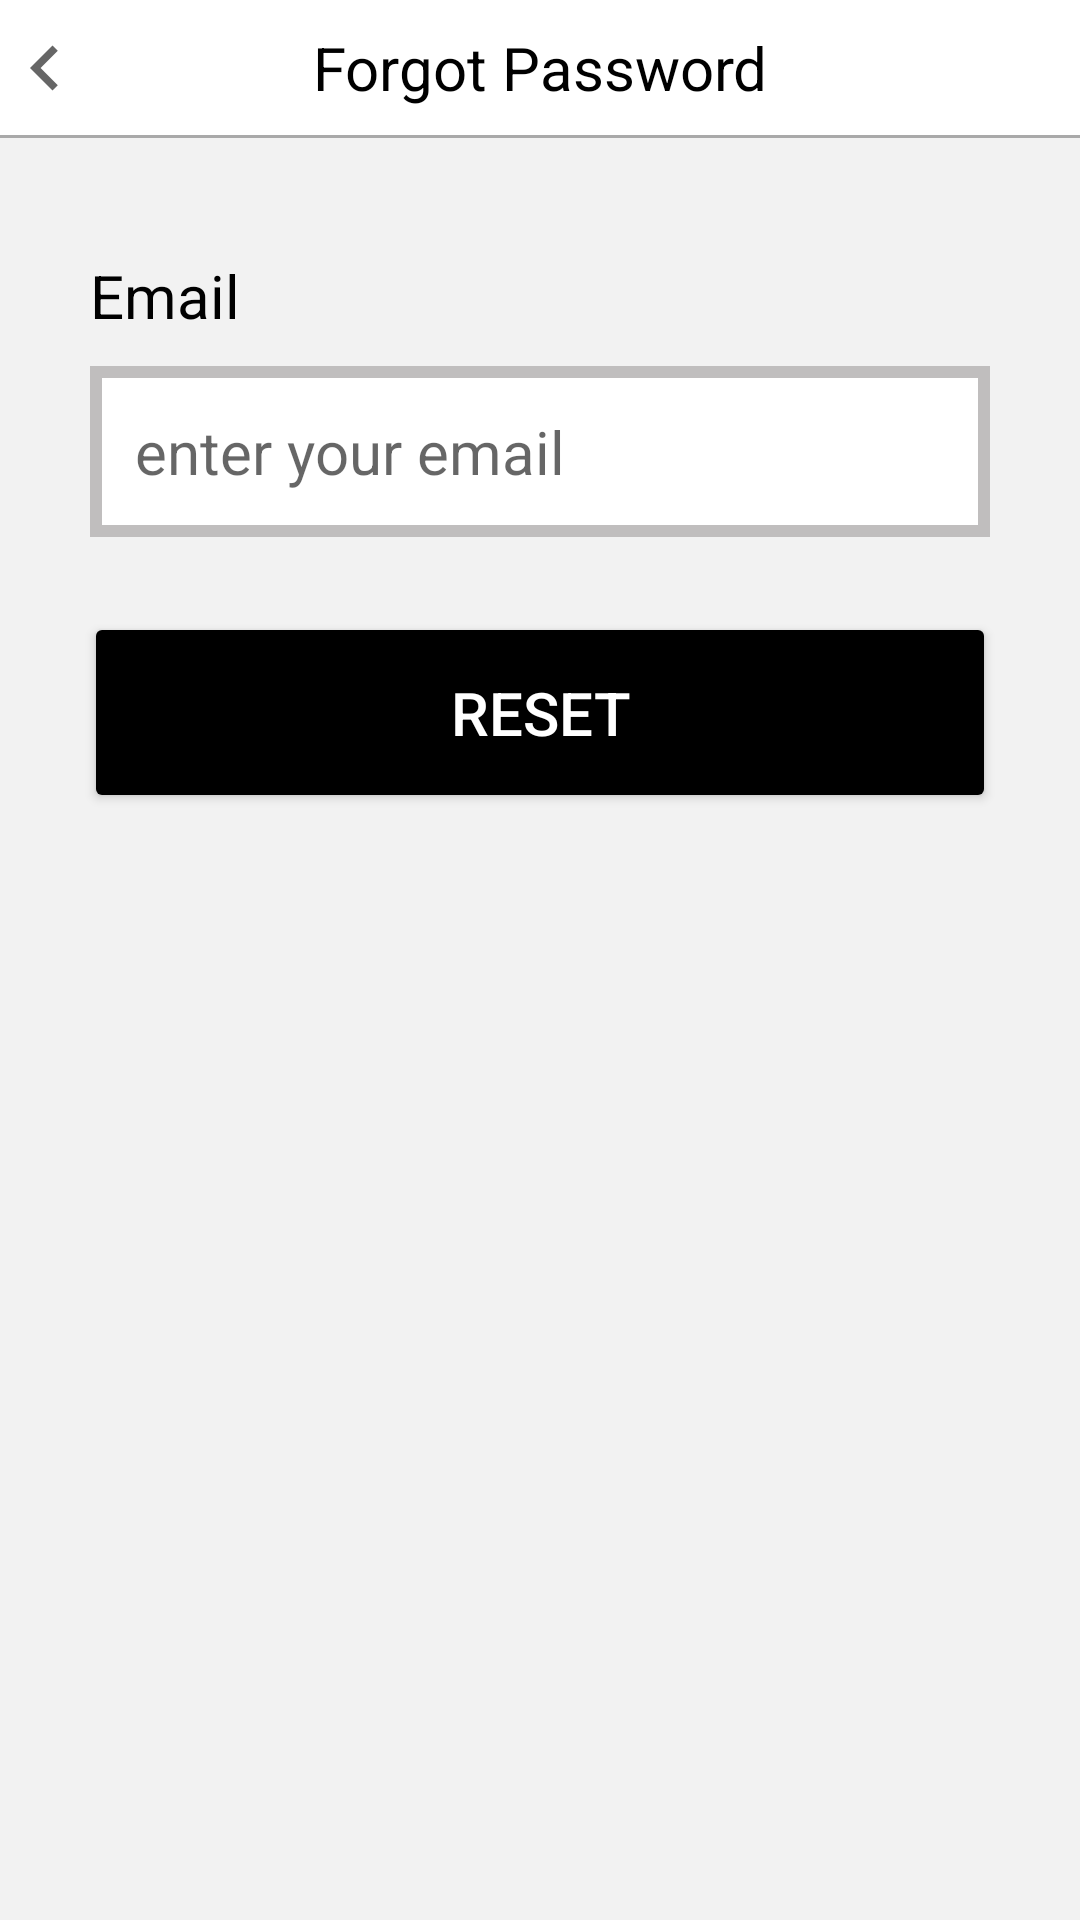

Icons on this 1080px x 1920px Android screen, each with its box as [x1, y1, x2, y2]:
chevron left: [30, 45, 58, 91]
